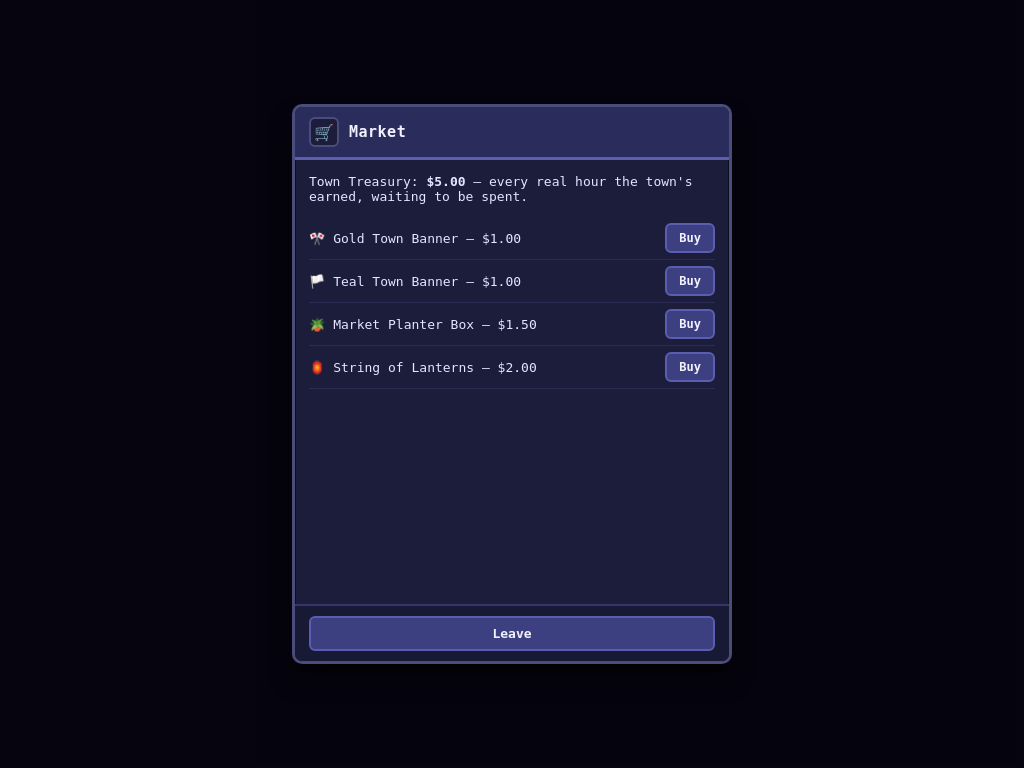
Test: MarketOverlay › actually spends the real treasury on a purchase once it can afford one
The width and height of the screenshot is (1024, 768).
Click the button "Buy" in the row of "Gold Town Banner": (690, 238) [665,223,715,253]
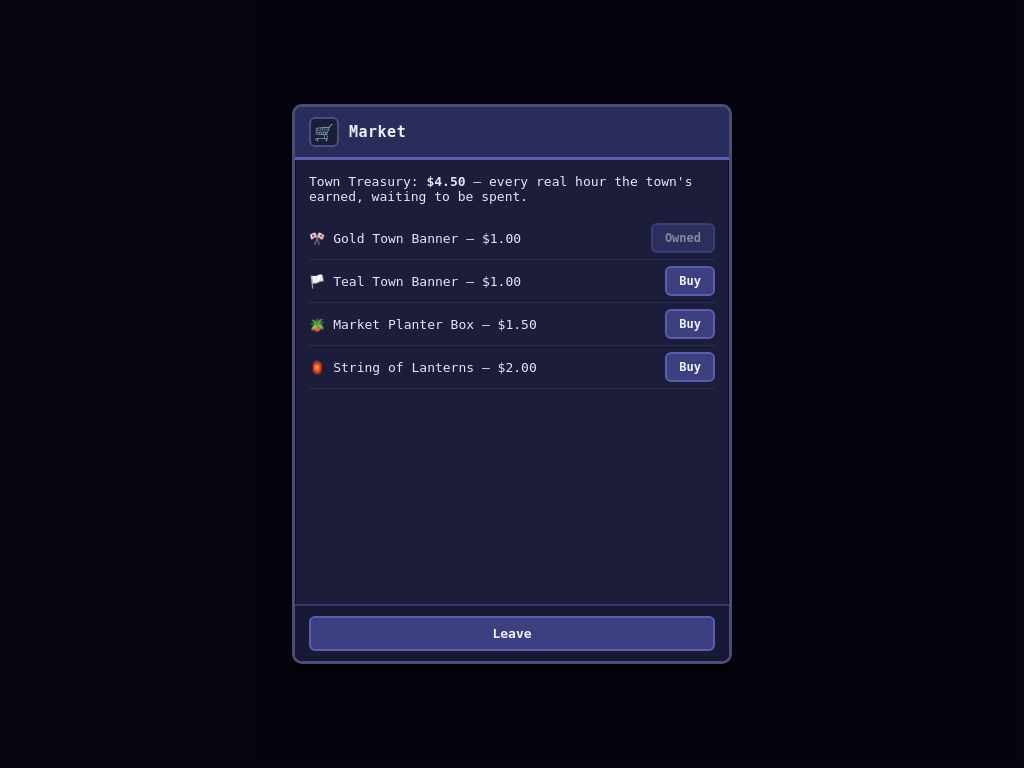
Now the button "Owned" is shown, box [651,223,715,253]
